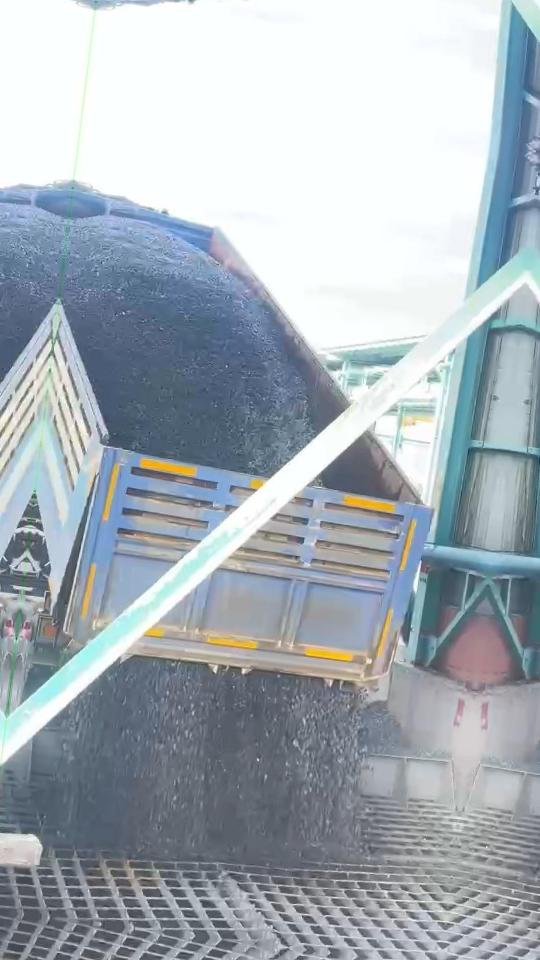gravel: (62, 216, 316, 475), (47, 659, 363, 866), (360, 704, 449, 759)
